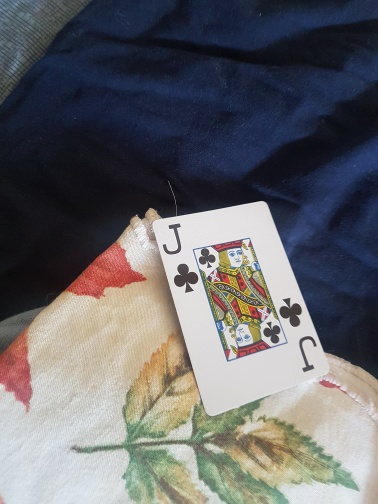jack: (152, 201, 333, 415)
